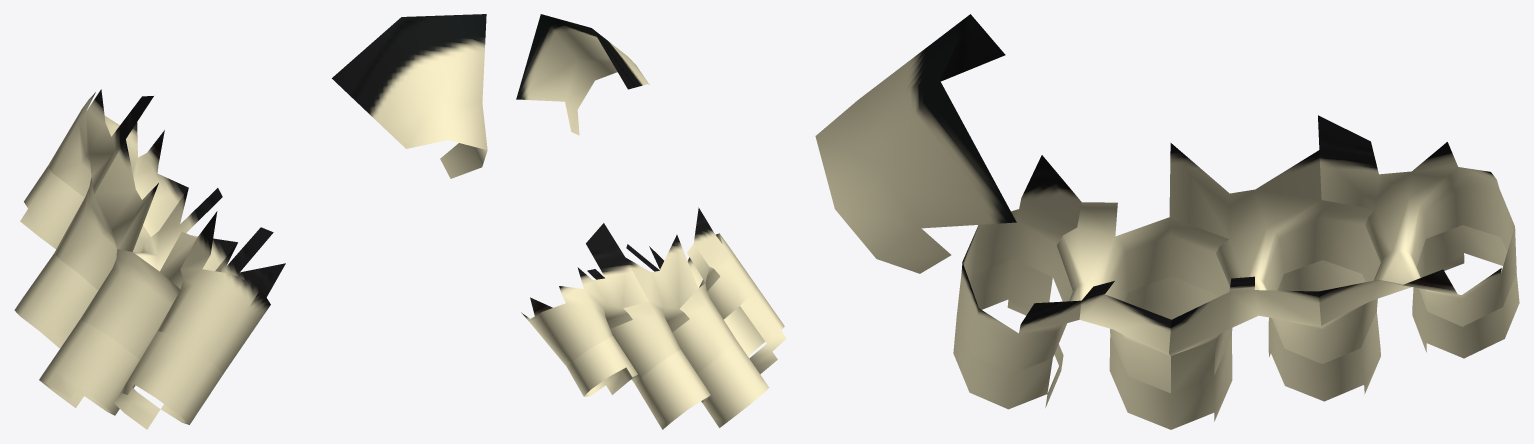
The model's file is dedosD1.obj.
The picture shows the model from 3 angles, left to right: view 1: azimuth 30°, elevation 25°; view 2: azimuth 150°, elevation 25°; view 3: azimuth 270°, elevation 25°; orthographic projection. The views are drawn at different scales.
Visible parts, largest first — view 1: dedosD1; view 2: dedosD1; view 3: dedosD1.
Part boxes in pixels (x1,y1,x2,y2): dedosD1: (14, 14, 487, 429); dedosD1: (516, 14, 786, 429); dedosD1: (815, 14, 1519, 429).
Bounding box in the file's own units: 0.6967 × 0.7065 × 0.7686.
1 material, 1 textured.
